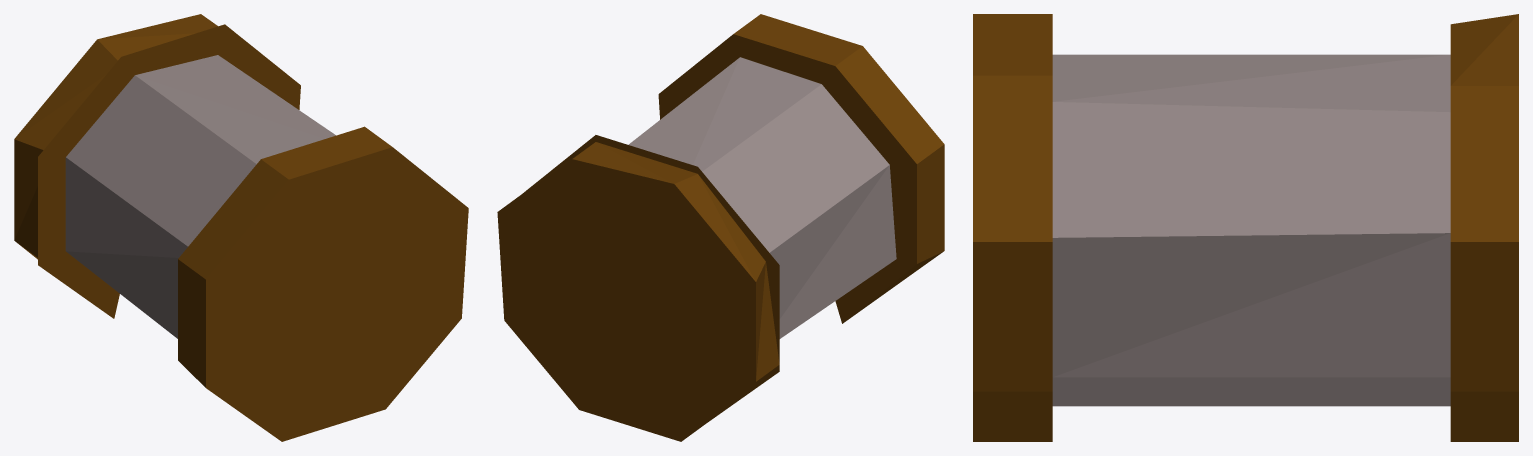
File: inv_bronze_wire.obj
3 renders of one model, left to right at view 1: azimuth 30°, elevation 25°; view 2: azimuth 150°, elevation 25°; view 3: azimuth 270°, elevation 25°, orthographic. The views are drawn at different scales.
Bounding box in the file's own units: 0.2969 × 0.2891 × 0.375.
